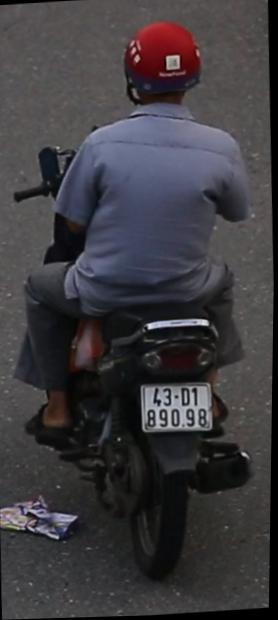LP: (137, 374, 217, 440)
helmet: (116, 15, 207, 126)
